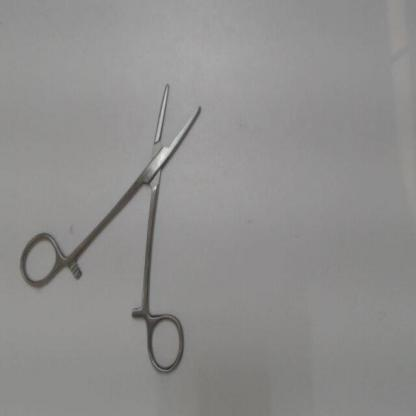Mayo Needle Holder: (15, 68, 216, 379)
